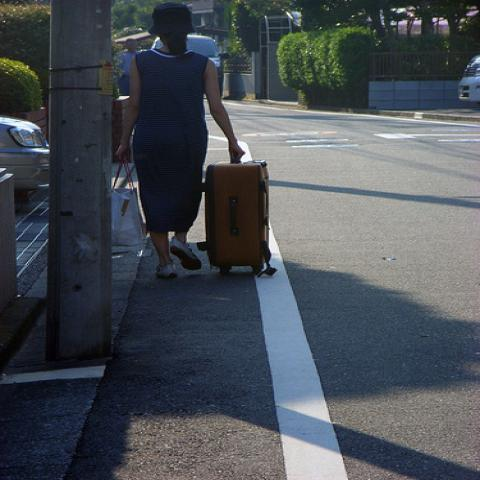car: (0, 117, 51, 187), (457, 53, 479, 103)
truck: (152, 35, 220, 68), (458, 52, 479, 105)
